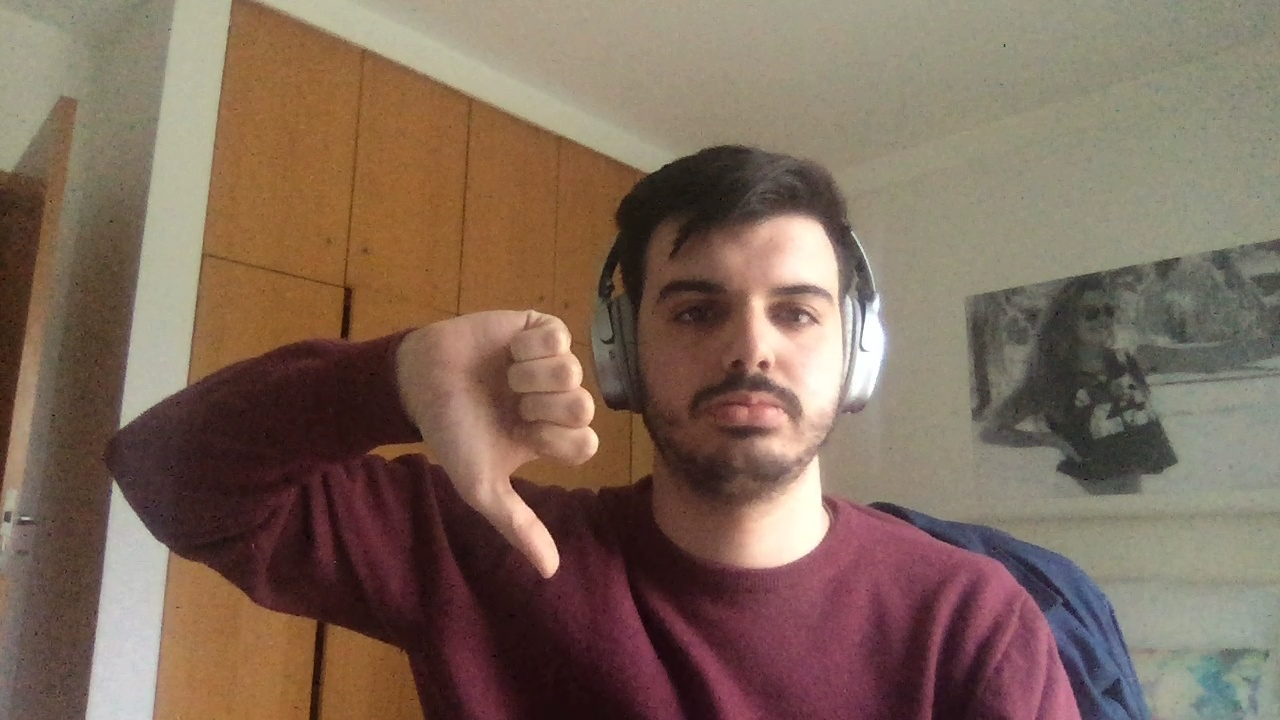ThumbsDown: (407, 307, 603, 575)
